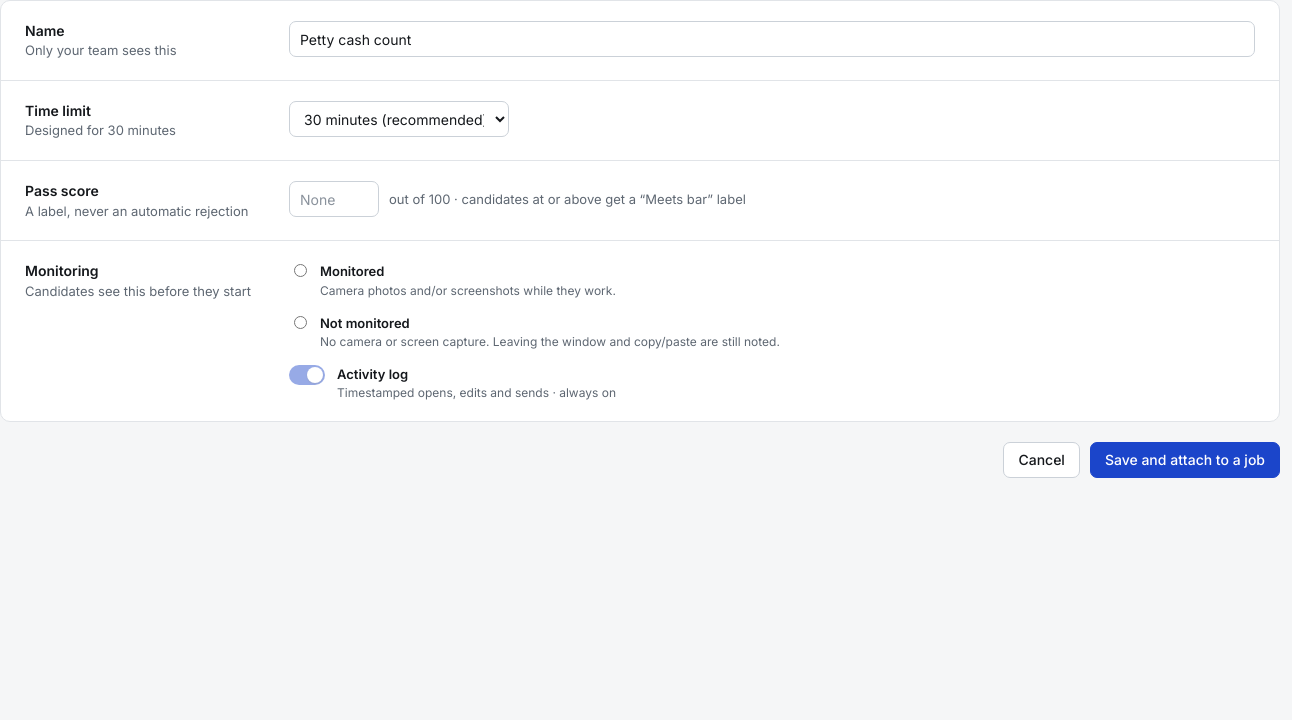
Scenario: ConfigureAssessmentForm: from the library › shows a form-level error
Click the radio button labelled "Not monitored".
click(300, 323)  # box [294,316,307,329]
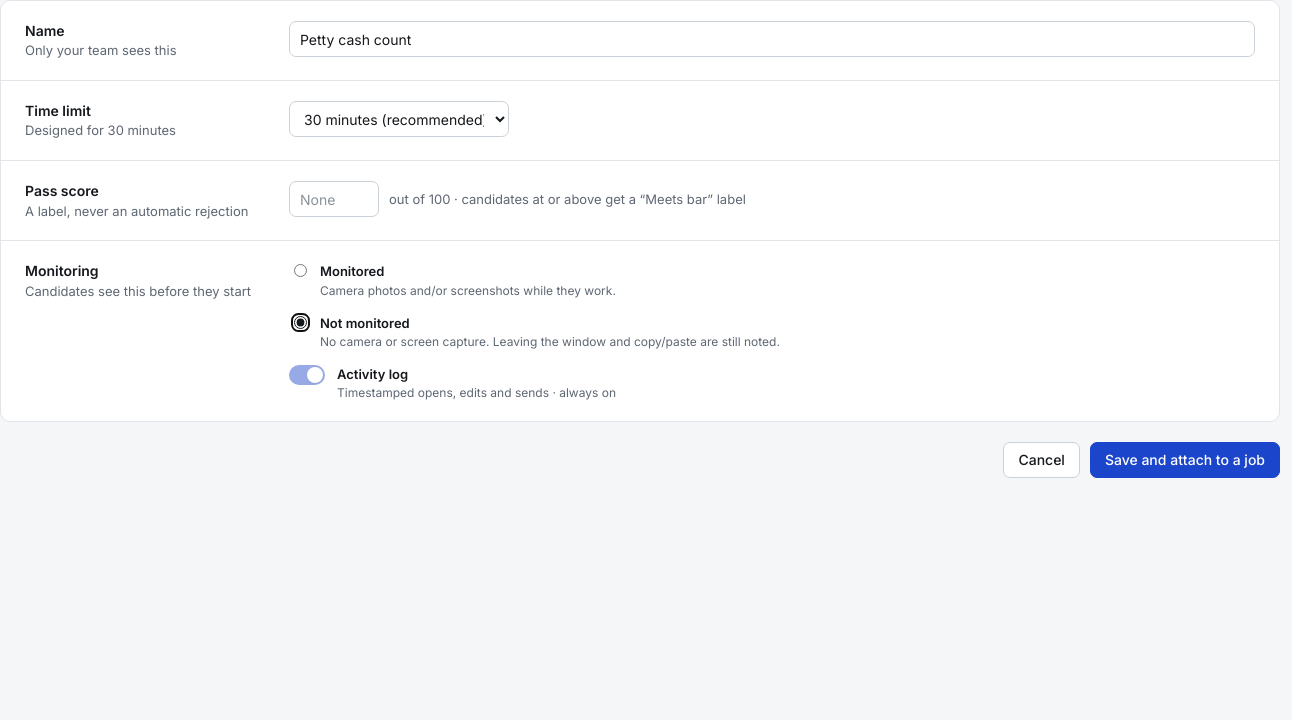
Click the button "Save and attach to a job".
click(1185, 460)  # box [1090,442,1280,478]
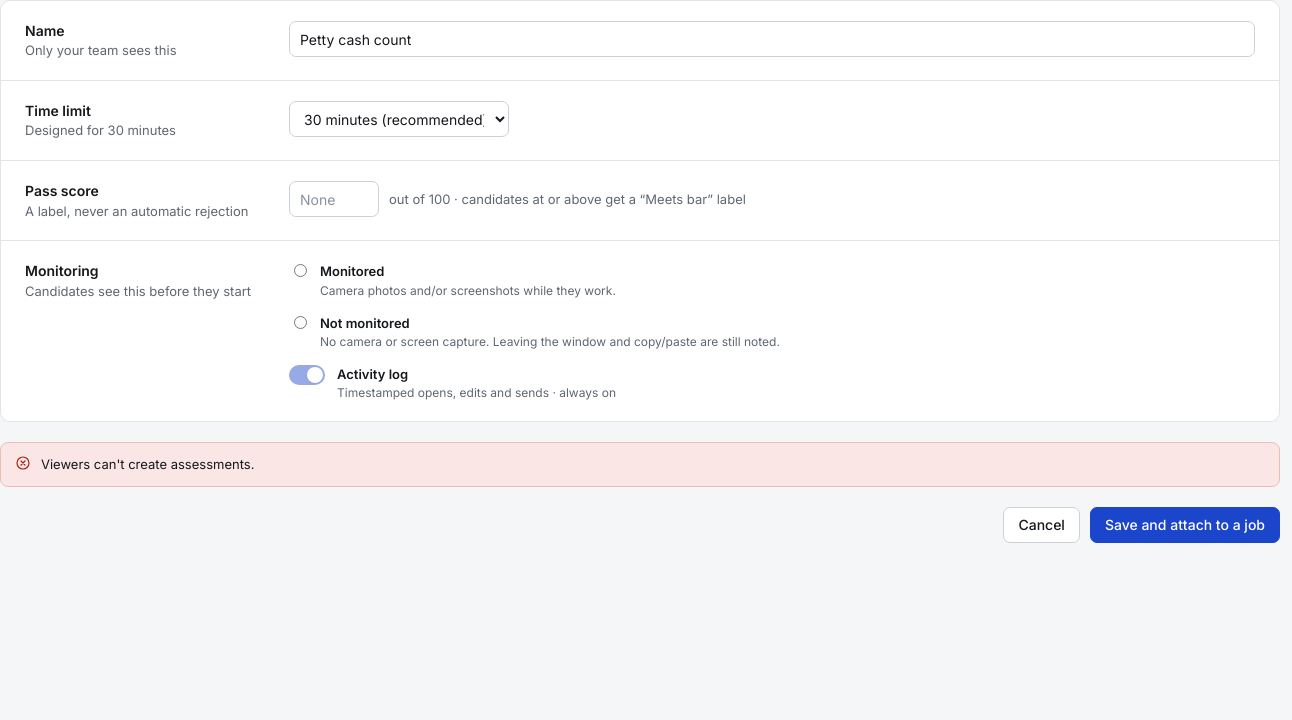
Check: the text "Viewers can't create assessments." is shown, box [41,455,254,474]
